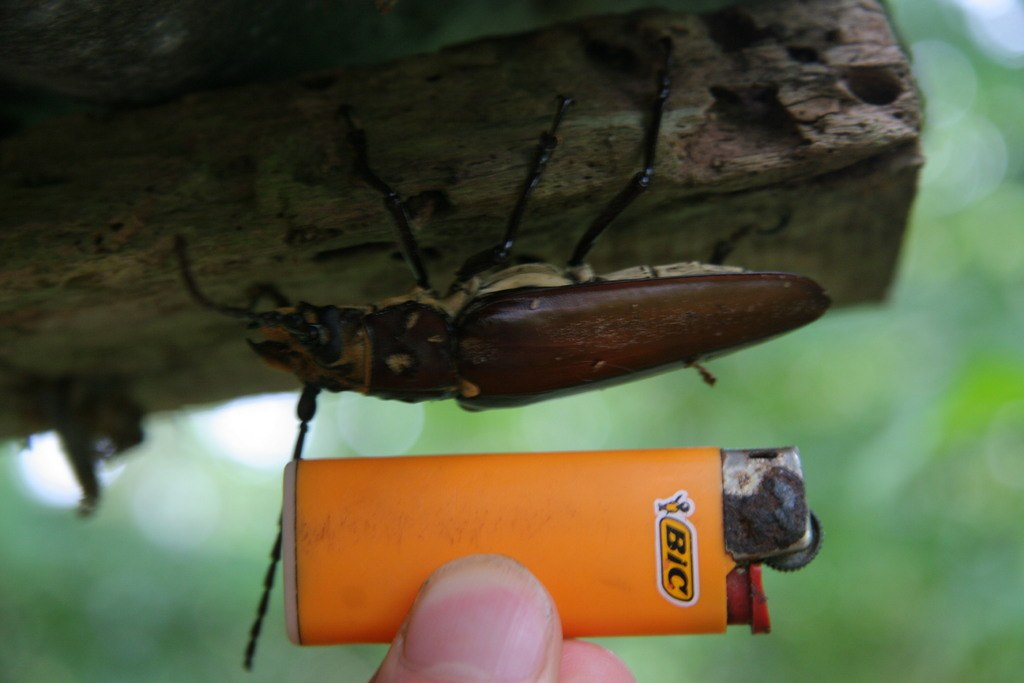insect: (170, 73, 833, 666)
